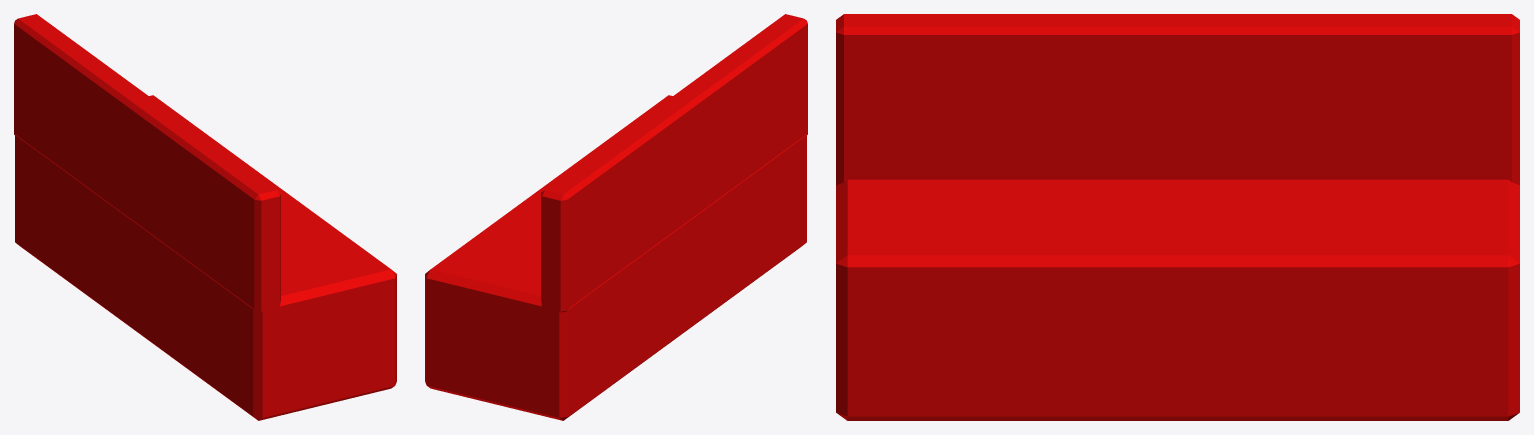
The model's file is redsofa.fbx.
The picture shows the model from 3 angles, left to right: view 1: azimuth 30°, elevation 25°; view 2: azimuth 150°, elevation 25°; view 3: azimuth 270°, elevation 25°; orthographic projection. The views are drawn at different scales.
Visible parts, largest first — view 1: pCube3; view 2: pCube3; view 3: pCube3.
Boxes of the visible parts, x1,y1,x2,y2 form: pCube3: (14, 14, 396, 420); pCube3: (425, 14, 807, 420); pCube3: (836, 14, 1519, 420).
Bounding box in the file's own units: 222 × 335 × 656.
